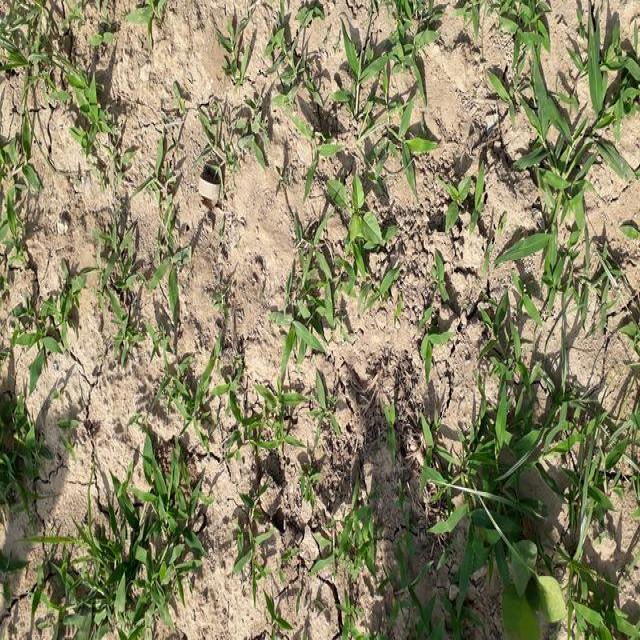weed: (412, 355, 640, 640), (482, 3, 640, 339), (34, 390, 242, 640), (0, 0, 119, 188)
